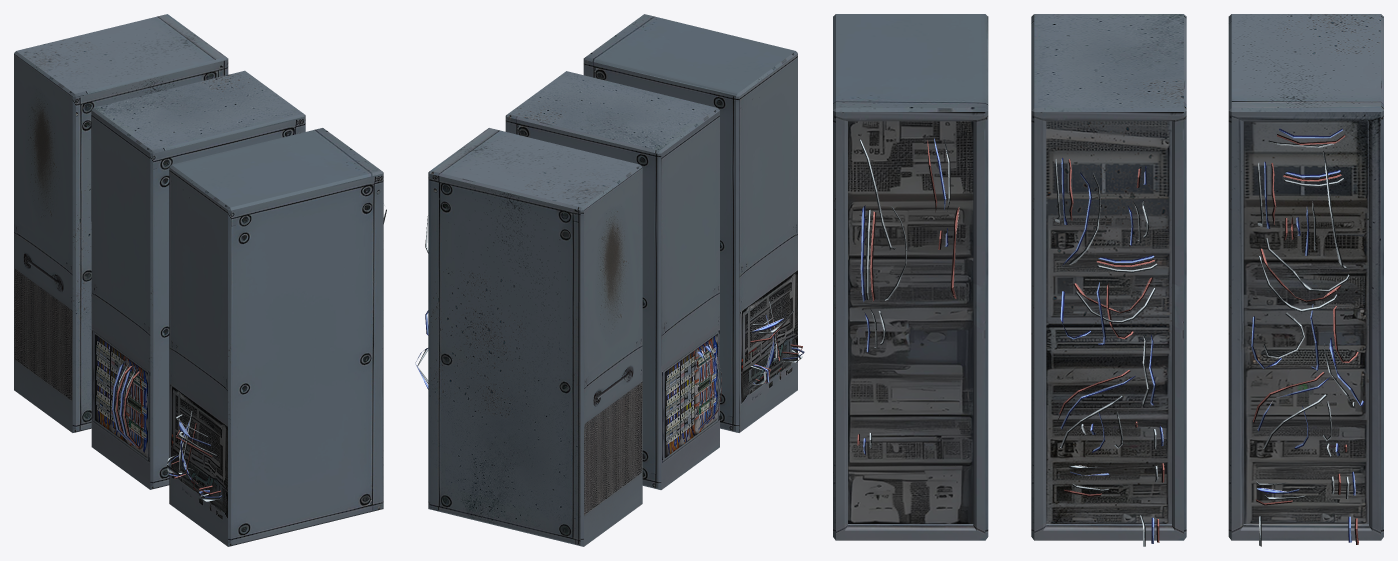
File: NetworkServerRackRow.obj
The picture shows the model from 3 angles, left to right: view 1: azimuth 30°, elevation 25°; view 2: azimuth 150°, elevation 25°; view 3: azimuth 270°, elevation 25°; orthographic projection. The views are drawn at different scales.
Visible parts, largest first — view 1: Cube_001_Material_001_0, B__zierCurve_001_Material_001_0; view 2: Cube_001_Material_001_0, B__zierCurve_001_Material_001_0; view 3: Cube_001_Material_001_0, B__zierCurve_001_Material_001_0.
Boxes of the visible parts, x1,y1,x2,y2 form: Cube_001_Material_001_0: [14, 14, 383, 546]; B__zierCurve_001_Material_001_0: [112, 205, 386, 501]; Cube_001_Material_001_0: [428, 14, 797, 546]; B__zierCurve_001_Material_001_0: [415, 216, 804, 429]; Cube_001_Material_001_0: [833, 14, 1383, 540]; B__zierCurve_001_Material_001_0: [857, 128, 1364, 546].
Size of the model in its own units: 1.12 by 1.83 by 2.1.
1 material, 1 textured.
